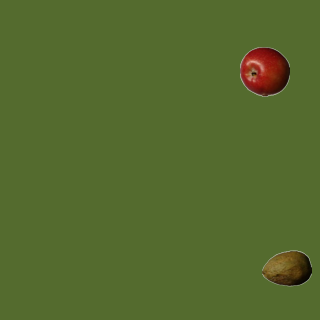Apple Braeburn: (239, 46, 289, 96)
Papaya: (261, 243, 311, 293)
